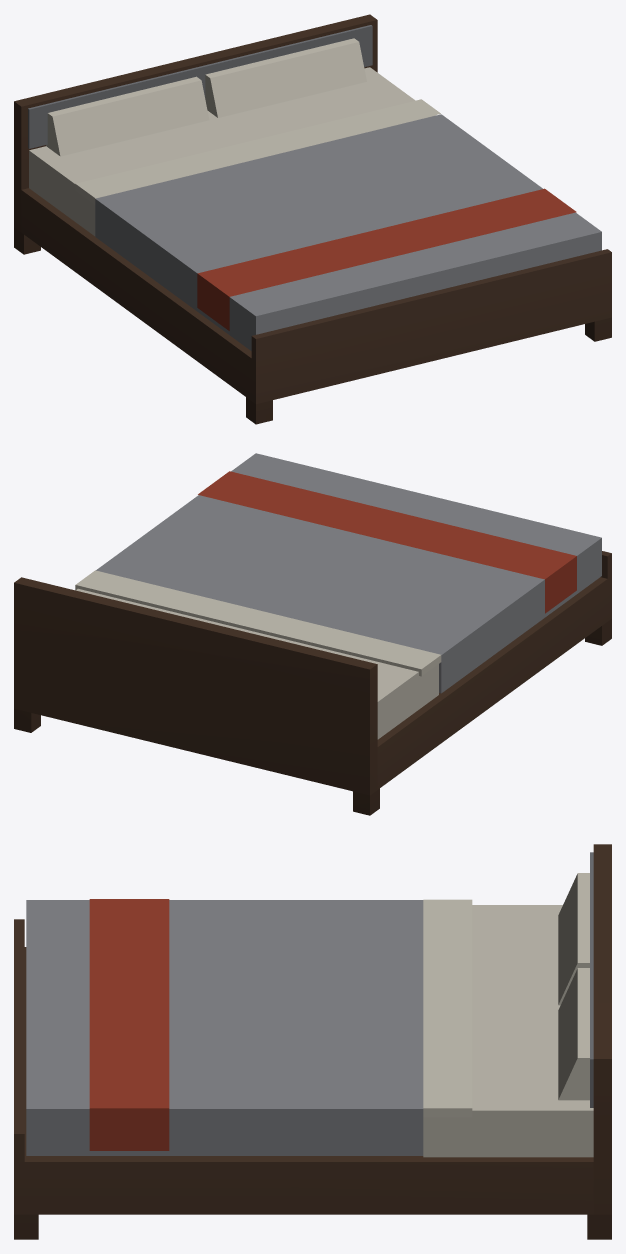
Rendered from bed.double.padded.glb.
3 renders of one model, top to bottom at view 1: azimuth 30°, elevation 25°; view 2: azimuth 150°, elevation 25°; view 3: azimuth 270°, elevation 25°, orthographic. The views are drawn at different scales.
Parts seen in each view (by area): view 1: bed_double_padded; view 2: bed_double_padded; view 3: bed_double_padded.
Boxes of the visible parts, bbox=[...] form: bed_double_padded: bbox=[14, 14, 611, 424]; bed_double_padded: bbox=[14, 453, 611, 815]; bed_double_padded: bbox=[14, 844, 611, 1239].
Size of what is drawn, in the model's own units: 1.66 by 0.65 by 1.95.
